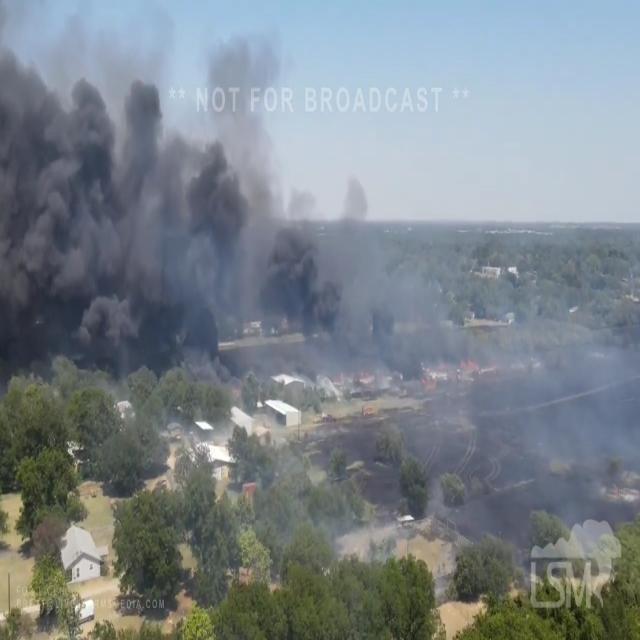Smoke: (0, 55, 268, 373)
